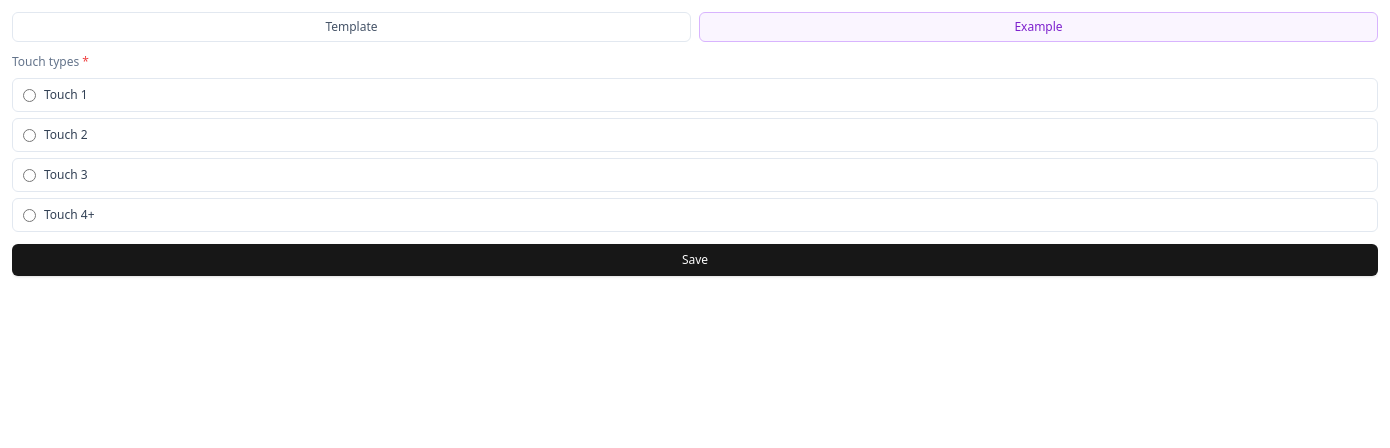
Test case: TemplateClassificationControls › shows one-touch example selection and only reveals artifact radios for touch_4
The image size is (1390, 448).
Check: the element "artifact type" is not shown
What coordinates should you click on to do the following:
click the radio button labelled "Touch 1"
I would click on:
 (30, 95)
Its box is [23,88,36,102].
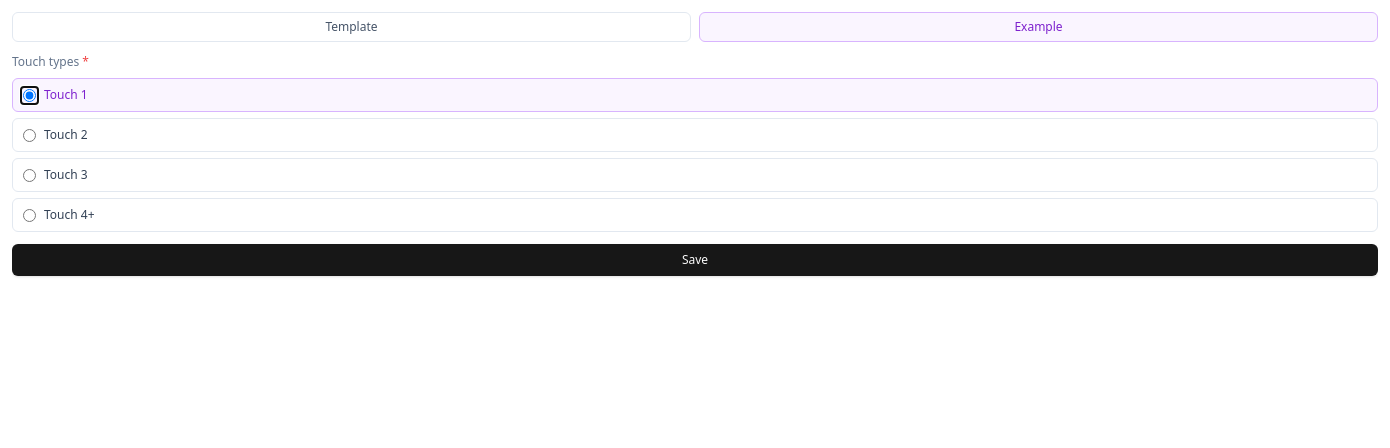
Check: the element "artifact type" is not shown
Check: the radio button labelled "Touch 1" is checked, box [23,88,36,102]
What coordinates should you click on to do the following:
click the radio button labelled "Touch 4+"
I would click on:
 (30, 215)
Its box is [23,208,36,222].
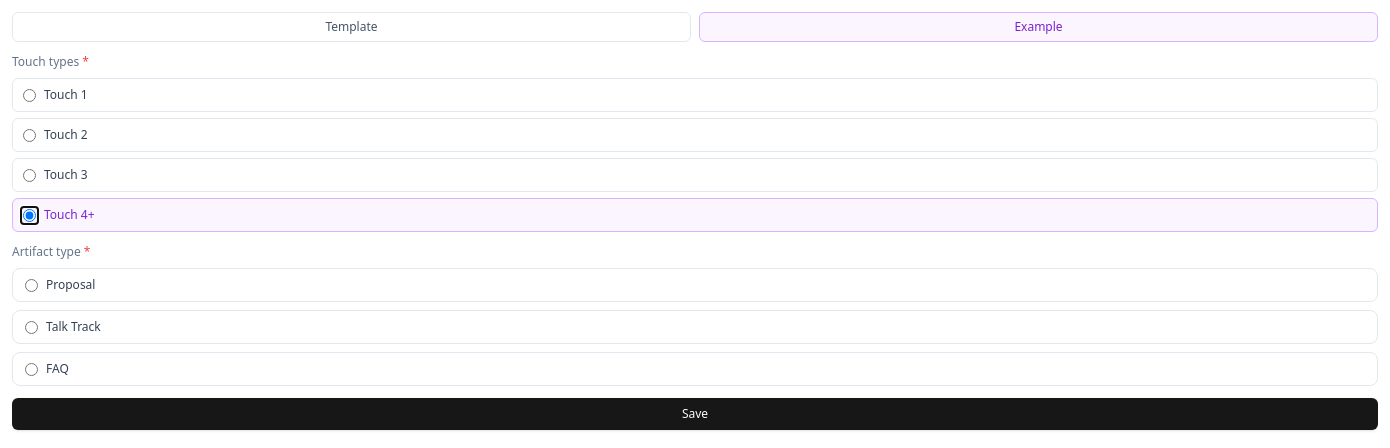
Check: the radio button labelled "Touch 4+" is checked, box [23,208,36,222]
Check: the radio button labelled "Touch 1" is not checked, box [23,88,36,102]
Check: the element named "artifact type" is shown, box [12,268,1378,386]
